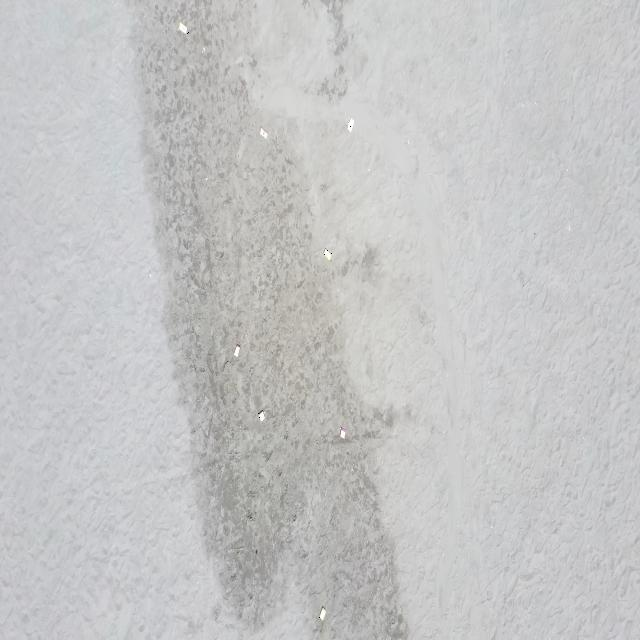Garbage: (324, 247, 331, 260), (318, 607, 324, 620), (347, 118, 353, 131), (179, 22, 186, 33), (233, 344, 239, 356), (260, 128, 267, 138), (258, 409, 263, 420), (340, 427, 344, 437)
